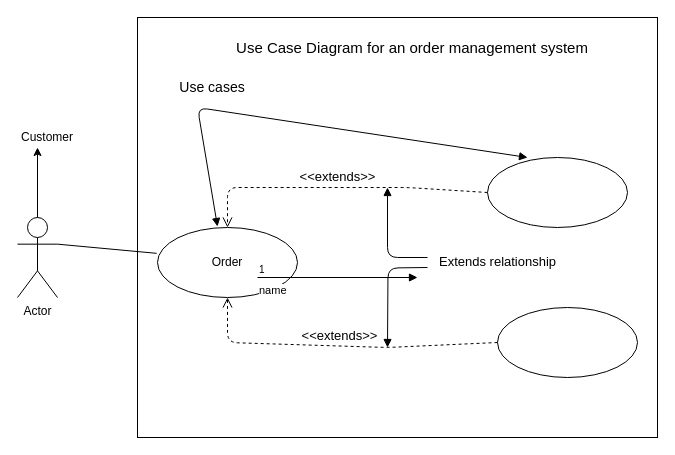
This 675x455 diagram has some shape labels left out. The shapes that lost their labels are listed below. From the top down, each one's centre as x and y in pixels, then its label:
the point at 557,192: SpecialOrder
the point at 567,342: NormalOrder
